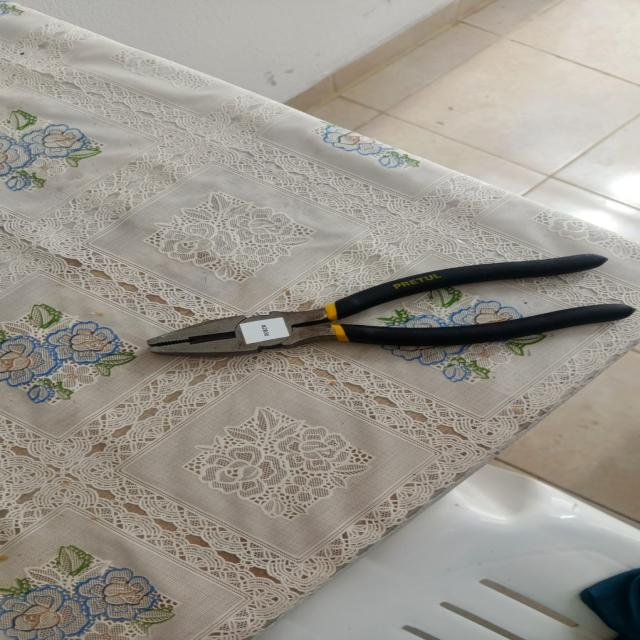alicate: (121, 255, 640, 372)
